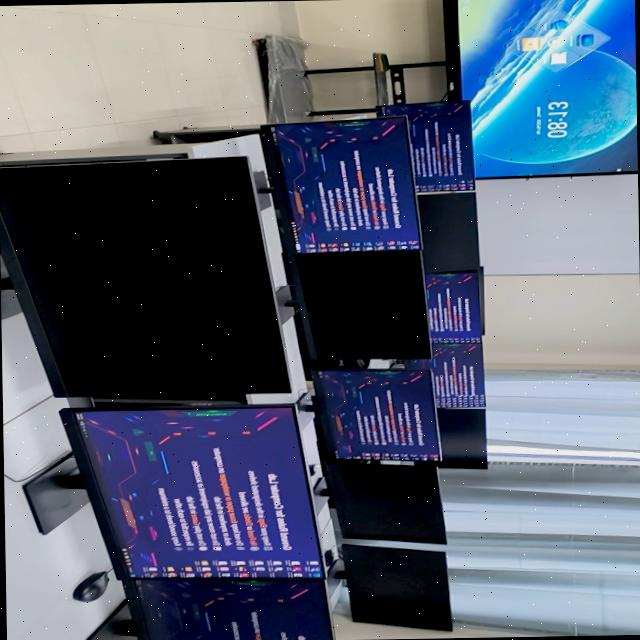Chair: (301, 357, 367, 379)
Digital board: (255, 0, 637, 178)
Monitor: (0, 155, 290, 398), (23, 404, 322, 580), (253, 117, 418, 253), (274, 250, 430, 361), (85, 578, 332, 640), (296, 369, 439, 461), (312, 459, 445, 544), (341, 545, 451, 631), (375, 100, 472, 192), (403, 342, 483, 408), (416, 192, 479, 273), (425, 273, 481, 343), (436, 408, 486, 469), (476, 266, 483, 334)
Mouse: (72, 571, 108, 602), (323, 548, 336, 566), (308, 464, 316, 476)
